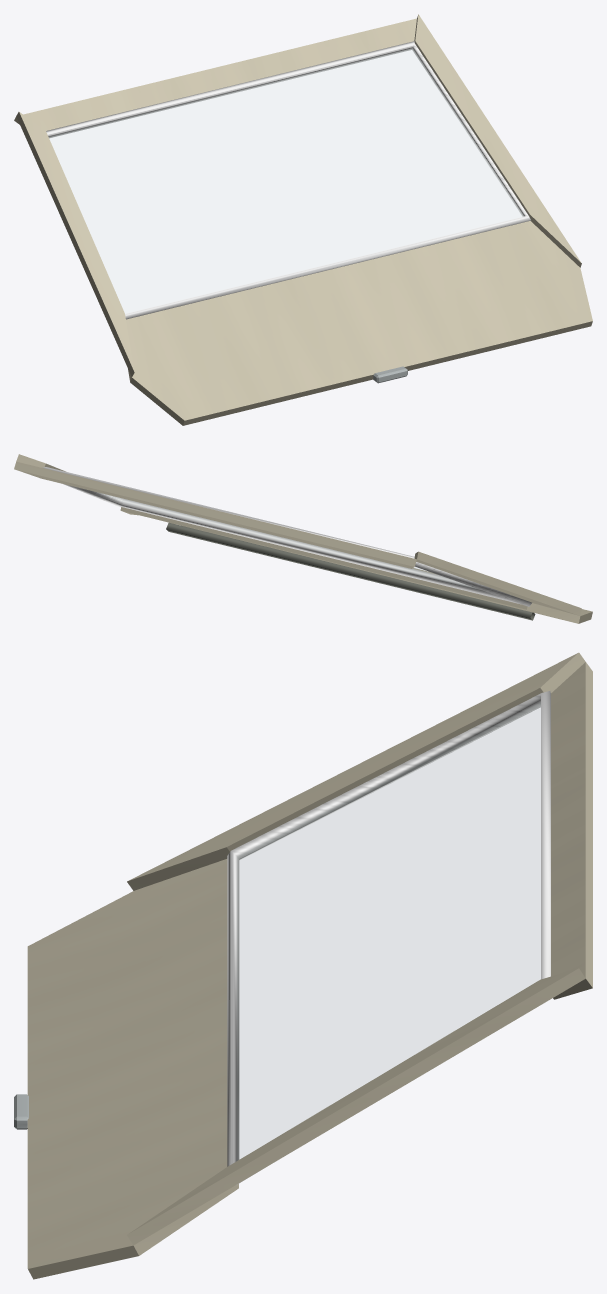
The model's file is zastava_101_trunk.glb.
3 renders of one model, top to bottom at view 1: azimuth 30°, elevation 25°; view 2: azimuth 150°, elevation 25°; view 3: azimuth 270°, elevation 25°, orthographic. The views are drawn at different scales.
Visible parts, largest first — view 1: zastava_101_trunk; view 2: zastava_101_trunk; view 3: zastava_101_trunk.
Part boxes in pixels (box(x1,y1,x2,y2)): zastava_101_trunk: box(14, 14, 592, 425); zastava_101_trunk: box(14, 454, 592, 623); zastava_101_trunk: box(14, 652, 592, 1279).
Bounding box in the file's own units: 1.43 × 0.5786 × 0.9857.
4 materials, 3 textured.
